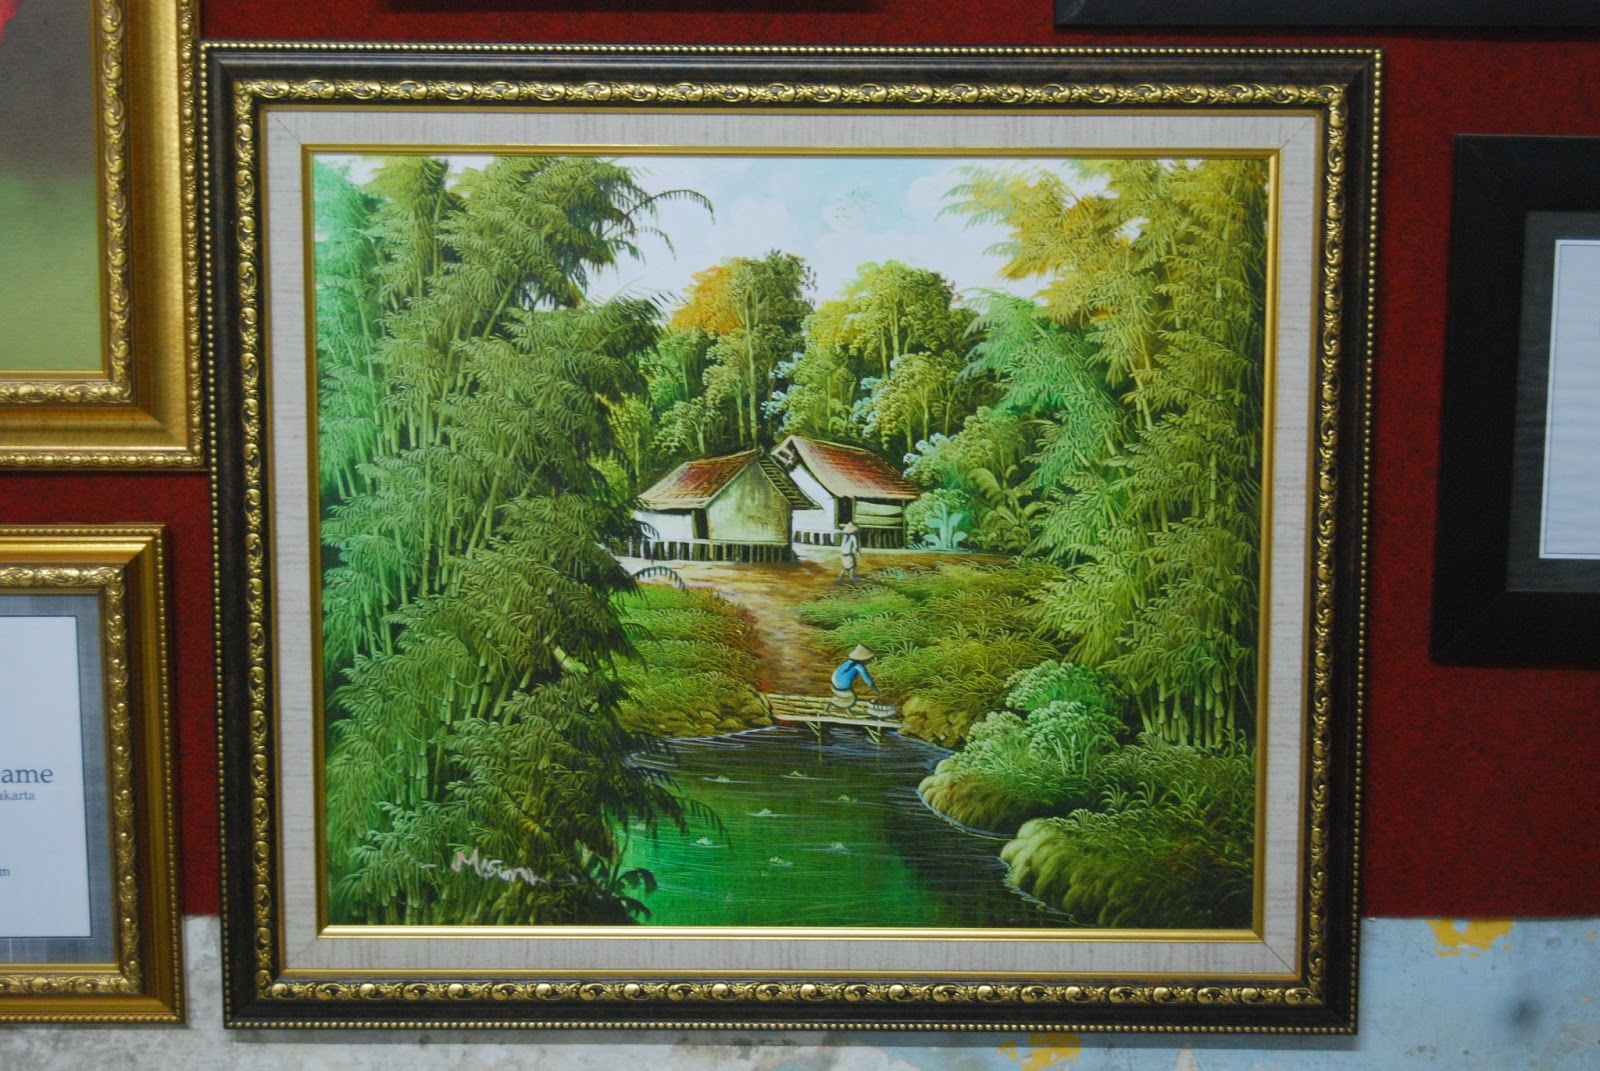lukisan: (174, 33, 1411, 1071)
